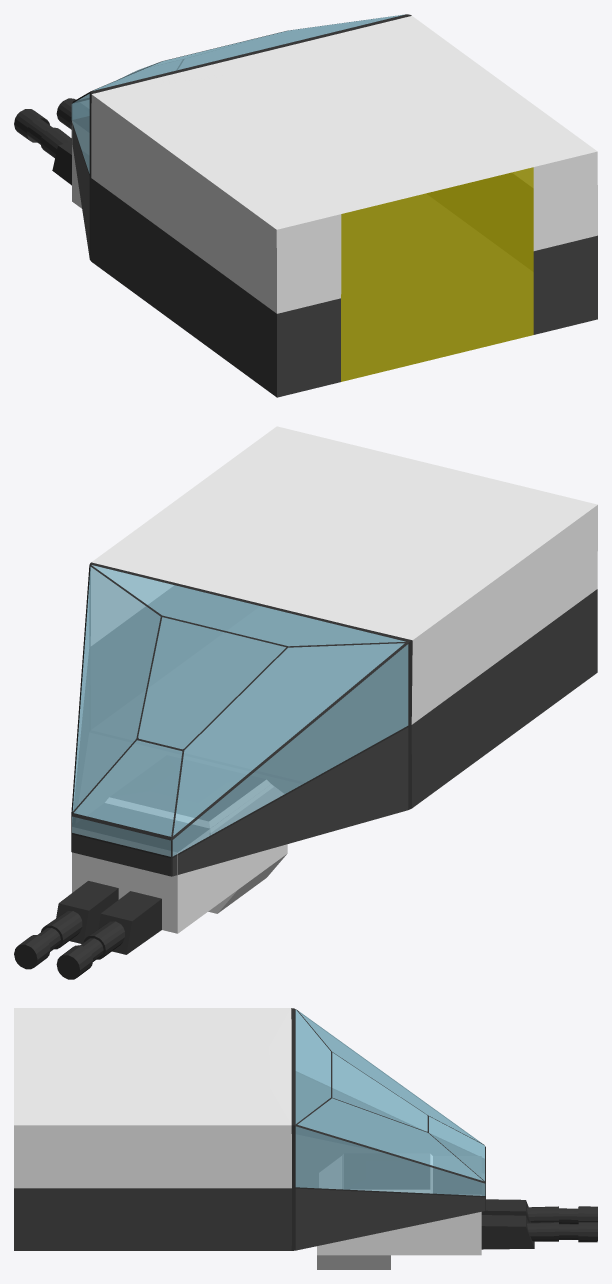
File: JusteJoueur.fbx
3 renders of one model, top to bottom at view 1: azimuth 30°, elevation 25°; view 2: azimuth 150°, elevation 25°; view 3: azimuth 270°, elevation 25°, orthographic. The views are drawn at different scales.
Visible parts, largest first — view 1: Vaisseau, TourelleVaisseau; view 2: Vaisseau, TourelleVaisseau; view 3: Vaisseau, TourelleVaisseau.
Boxes of the visible parts, x1,y1,x2,y2 form: Vaisseau: [71, 14, 597, 397]; TourelleVaisseau: [14, 98, 89, 208]; Vaisseau: [71, 426, 597, 876]; TourelleVaisseau: [14, 755, 287, 979]; Vaisseau: [14, 1008, 485, 1250]; TourelleVaisseau: [317, 1153, 597, 1269].
Bounding box in the file's own units: 2 × 4.21 × 1.52.
